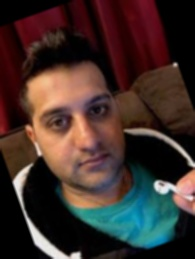earphone: (23, 123, 45, 160)
